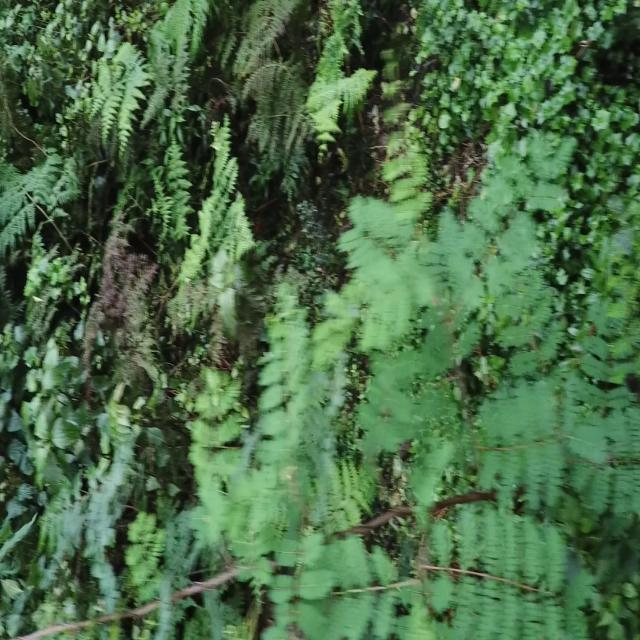Mysore-Thorn-Weed: (184, 207, 640, 640)
